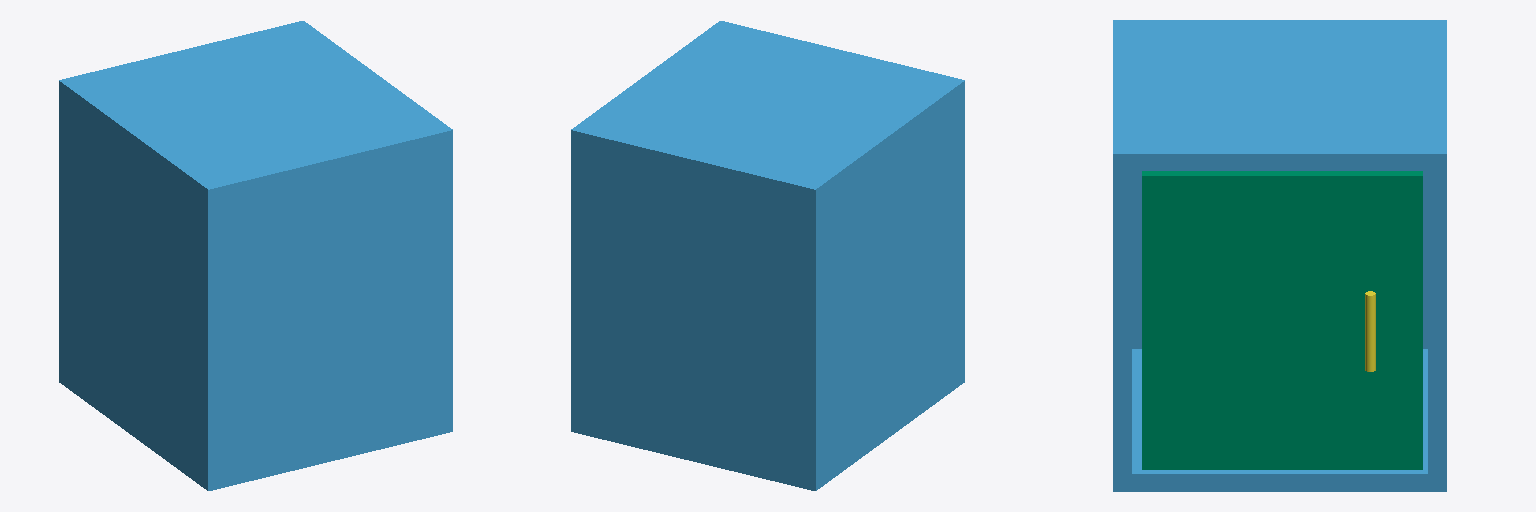
The robot description file, URDF, robot "my_cabinet":
<?xml version="1.0" ?>
<robot name="my_cabinet">
	<link name="world"/>
	<joint name="virtual_joint" type="fixed">
		<parent link="world"/>
		<child link="base_cabinet_link"/>
		<origin xyz="0.0 0.0 0.0" rpy="0.0 0.0 0.0"/>
	</joint>
	<link name="base_cabinet_link">
		<visual>
			<origin xyz="0.0 -0.0025 -0.1675354590447505" rpy="0.0 0.0 0.0"/>
			<geometry>
				<box size="0.3 0.31749612354180207 0.018"/>
			</geometry>
		</visual>
		<collision name="base_cabinet_link_collision_0">
			<origin xyz="0.0 -0.0025 -0.1675354590447505" rpy="0.0 0.0 0.0"/>
			<geometry>
				<box size="0.3 0.31749612354180207 0.018"/>
			</geometry>
		</collision>
		<visual>
			<origin xyz="0.0 0.14724806177090105 0.0" rpy="0.0 0.0 0.0"/>
			<geometry>
				<box size="0.3 0.018 0.35307091808950103"/>
			</geometry>
		</visual>
		<collision name="base_cabinet_link_collision_1">
			<origin xyz="0.0 0.14724806177090105 0.0" rpy="0.0 0.0 0.0"/>
			<geometry>
				<box size="0.3 0.018 0.35307091808950103"/>
			</geometry>
		</collision>
		<visual>
			<origin xyz="0.0 -0.15224806177090106 0.0" rpy="0.0 0.0 0.0"/>
			<geometry>
				<box size="0.3 0.018 0.35307091808950103"/>
			</geometry>
		</visual>
		<collision name="base_cabinet_link_collision_2">
			<origin xyz="0.0 -0.15224806177090106 0.0" rpy="0.0 0.0 0.0"/>
			<geometry>
				<box size="0.3 0.018 0.35307091808950103"/>
			</geometry>
		</collision>
		<visual>
			<origin xyz="0.0 -0.0025 0.1675354590447505" rpy="0.0 0.0 0.0"/>
			<geometry>
				<box size="0.3 0.31749612354180207 0.018"/>
			</geometry>
		</visual>
		<collision name="base_cabinet_link_collision_3">
			<origin xyz="0.0 -0.0025 0.1675354590447505" rpy="0.0 0.0 0.0"/>
			<geometry>
				<box size="0.3 0.31749612354180207 0.018"/>
			</geometry>
		</collision>
		<visual>
			<origin xyz="-0.141 -0.0025 0.0" rpy="0.0 0.0 0.0"/>
			<geometry>
				<box size="0.018 0.31749612354180207 0.35307091808950103"/>
			</geometry>
		</visual>
		<collision name="base_cabinet_link_collision_4">
			<origin xyz="-0.141 -0.0025 0.0" rpy="0.0 0.0 0.0"/>
			<geometry>
				<box size="0.018 0.31749612354180207 0.35307091808950103"/>
			</geometry>
		</collision>
		<inertial>
			<mass value="0.200000"/>
			<inertia ixx="0.003758" ixy="0.0" ixz="0.0" iyy="0.003578" iyz="0.0" izz="0.003180"/>
		</inertial>
	</link>
	<link name="door_link">
		<visual>
			<origin xyz="0.0 -0.13324806177090104 0.0"/>
			<geometry>
				<box size="0.018 0.2664961235418021 0.307070918089501"/>
			</geometry>
		</visual>
		<collision name="door_link_collision">
			<origin xyz="0.0 -0.13324806177090104 0.0"/>
			<geometry>
				<box size="0.018 0.2664961235418021 0.307070918089501"/>
			</geometry>
		</collision>
		<inertial>
			<mass value="0.200000"/>
			<inertia ixx="0.002755" ixy="0.0" ixz="0.0" iyy="0.001577" iyz="0.0" izz="0.001189"/>
		</inertial>
	</link>
	<joint name="door_joint" type="revolute">
		<origin xyz="0.141 -0.13324806177090104 0.0" rpy="0.000000 -0.000000 3.141593"/>
		<axis xyz="0 0 1"/>
		<parent link="base_cabinet_link"/>
		<child link="door_link"/>
		<limit effort="50" lower="-1.658062789394613" upper="0" velocity="10"/>
		<dynamics friction="3.5" damping="3.5"/>
	</joint>
	<link name="handle_link">
		<visual>
			<origin xyz="0.0 0.0 0.0" rpy="0.0 0.0 0.0"/>
			<geometry>
				<cylinder length="0.08" radius="0.005"/>
			</geometry>
		</visual>
		<collision name="handle_link_collision_0">
			<origin xyz="0.0 0.0 0.0" rpy="0.0 0.0 0.0"/>
			<geometry>
				<cylinder length="0.08" radius="0.005"/>
			</geometry>
		</collision>
		<visual>
			<origin xyz="-0.01 0.0 0.02" rpy="0.0 1.5707963267948966 0.0"/>
			<geometry>
				<cylinder length="0.02" radius="0.003"/>
			</geometry>
		</visual>
		<collision name="handle_link_collision_1">
			<origin xyz="-0.01 0.0 0.02" rpy="0.0 1.5707963267948966 0.0"/>
			<geometry>
				<cylinder length="0.01" radius="0.003"/>
			</geometry>
		</collision>
		<visual>
			<origin xyz="-0.01 0.0 -0.02" rpy="0.0 1.5707963267948966 0.0"/>
			<geometry>
				<cylinder length="0.02" radius="0.003"/>
			</geometry>
		</visual>
		<collision name="handle_link_collision_2">
			<origin xyz="-0.01 0.0 -0.02" rpy="0.0 1.5707963267948966 0.0"/>
			<geometry>
				<cylinder length="0.02" radius="0.003"/>
			</geometry>
		</collision>
		<inertial>
			<mass value="0.050000"/>
			<inertia ixx="0.000027" ixy="0.0" ixz="0.0" iyy="0.000029" iyz="0.0" izz="0.000003"/>
		</inertial>
	</link>
	<joint name="handle_joint" type="fixed">
		<origin xyz="-0.028999999999999998 -0.2164961235418021 0.0" rpy="0.000000 -0.000000 3.141593"/>
		<parent link="door_link"/>
		<child link="handle_link"/>
	</joint>
	<gazebo reference="base_cabinet_link">
		<sensor name="main_sensor" type="contact">
			<selfCollide>true</selfCollide>
			<alwaysOn>true</alwaysOn>
			<updateRate>5.0</updateRate>
			<material>Gazebo/Red</material>
			<contact>
				<collision>base_cabinet_link_collision_0_collision</collision>
				<collision>base_cabinet_link_collision_1_collision</collision>
				<collision>base_cabinet_link_collision_2_collision</collision>
				<collision>base_cabinet_link_collision_3_collision</collision>
				<collision>base_cabinet_link_collision_4_collision</collision>
			</contact>
			<plugin name="gazebo_ros_bumper_controller" filename="libgazebo_ros_bumper.so">
				<bumperTopicName>/contact</bumperTopicName>
				<frameName>world</frameName>
			</plugin>
		</sensor>
	</gazebo>
	<gazebo reference="door_link">
		<sensor name="main_sensor" type="contact">
			<selfCollide>true</selfCollide>
			<alwaysOn>true</alwaysOn>
			<updateRate>5.0</updateRate>
			<material>Gazebo/Red</material>
			<contact>
				<collision>door_link_collision_collision</collision>
			</contact>
			<plugin name="gazebo_ros_bumper_controller" filename="libgazebo_ros_bumper.so">
				<bumperTopicName>/contact_door</bumperTopicName>
				<frameName>contact_door</frameName>
			</plugin>
		</sensor>
	</gazebo>
	<gazebo reference="door_link">
		<mu>3.0</mu>
		<mu2>3.0</mu2>
		<kp>10000000</kp>
		<kd>100</kd>
	</gazebo>
</robot>

--- What the picture shows (computed from the rendered views, not written in the file) ---
The picture shows the robot from 3 angles, left to right: view 1: azimuth 30°, elevation 25°; view 2: azimuth 150°, elevation 25°; view 3: azimuth 270°, elevation 25°; orthographic projection.
Model my_cabinet with 4 links and 3 joints (1 revolute, 2 fixed), rooted at world, posed every joint at zero.
Links seen in each view (by area): view 1: base_cabinet_link; view 2: base_cabinet_link; view 3: door_link, base_cabinet_link, handle_link.
Boxes of the visible links, x1,y1,x2,y2 form: base_cabinet_link: (59,21,452,490); base_cabinet_link: (571,21,964,490); door_link: (1142,171,1422,469); base_cabinet_link: (1113,20,1446,491); handle_link: (1365,291,1375,371).
Size in the robot's own frame: 0.325 by 0.3175 by 0.3531 metres.
Geometry: primitives only (box / cylinder / sphere), no mesh files.
